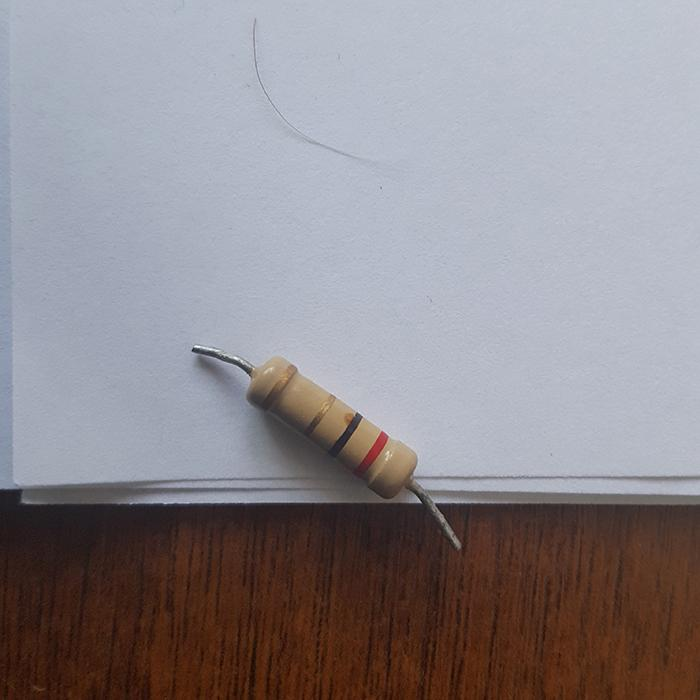resistor: (247, 357, 414, 495)
